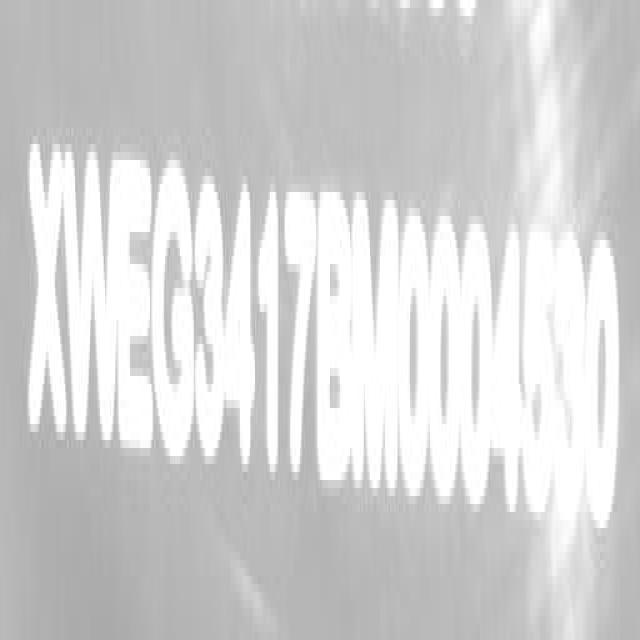0: (397, 197, 433, 510), (585, 225, 621, 525), (459, 209, 493, 525), (429, 204, 462, 519)
1: (258, 172, 283, 488)
3: (554, 224, 588, 536), (196, 160, 229, 476)
4: (224, 168, 257, 482), (493, 217, 526, 526)
5: (524, 221, 554, 536)
7: (285, 177, 319, 498)
B: (318, 180, 354, 500)
E: (116, 150, 158, 467)
G: (153, 149, 198, 468)
M: (352, 184, 400, 506)
W: (66, 135, 120, 462)
X: (25, 129, 73, 453)
